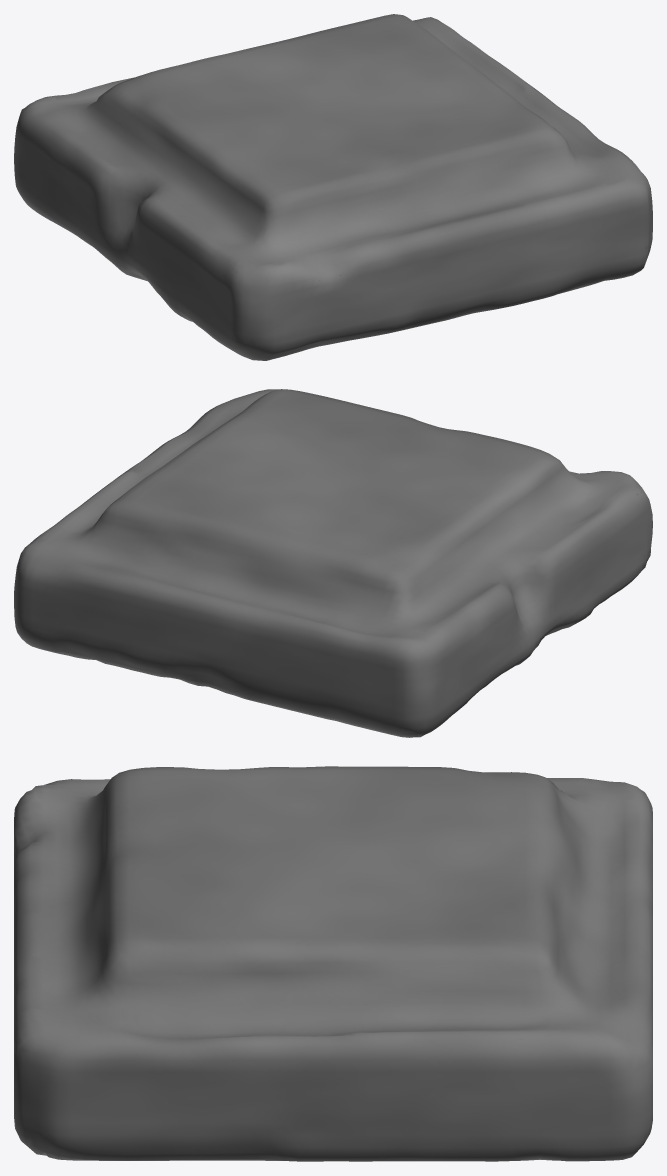
Rendered from Pillar.fbx.
The picture shows the model from 3 angles, top to bottom: view 1: azimuth 30°, elevation 25°; view 2: azimuth 150°, elevation 25°; view 3: azimuth 270°, elevation 25°; orthographic projection. The views are drawn at different scales.
Visible parts, largest first — view 1: Base.001; view 2: Base.001; view 3: Base.001.
Boxes of the visible parts, x1,y1,x2,y2 form: Base.001: (14, 14, 652, 360); Base.001: (14, 389, 652, 737); Base.001: (14, 766, 652, 1161).
Bounding box in the file's own units: 450 × 137 × 450.
